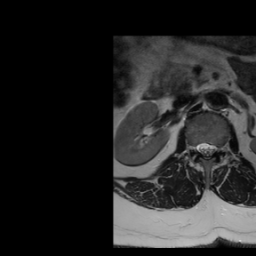CCS_normal: (203, 136, 209, 164)
LFS_stenosis: (216, 138, 223, 158)
LLS_stenosis: (209, 138, 216, 158)
RFS_normal: (190, 138, 196, 158)
RLS_normal: (196, 137, 203, 158)
